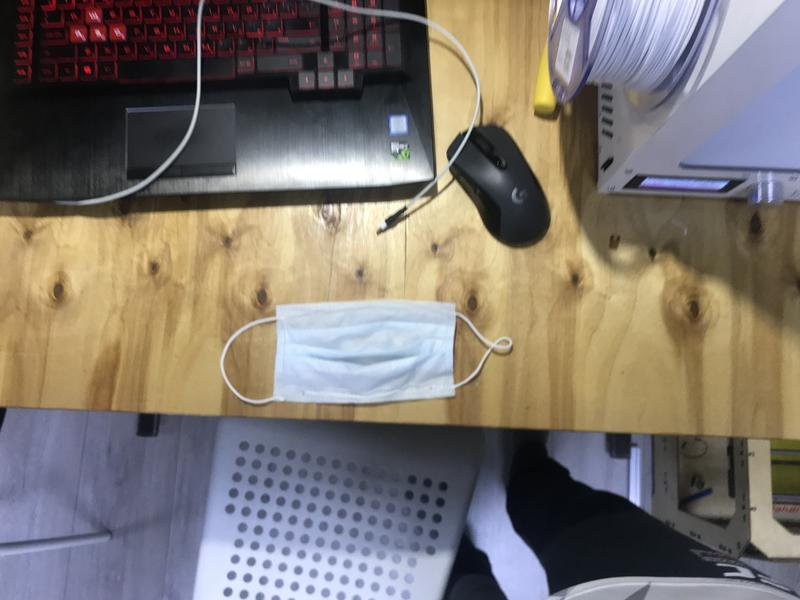medical_mask: (220, 299, 511, 407)
